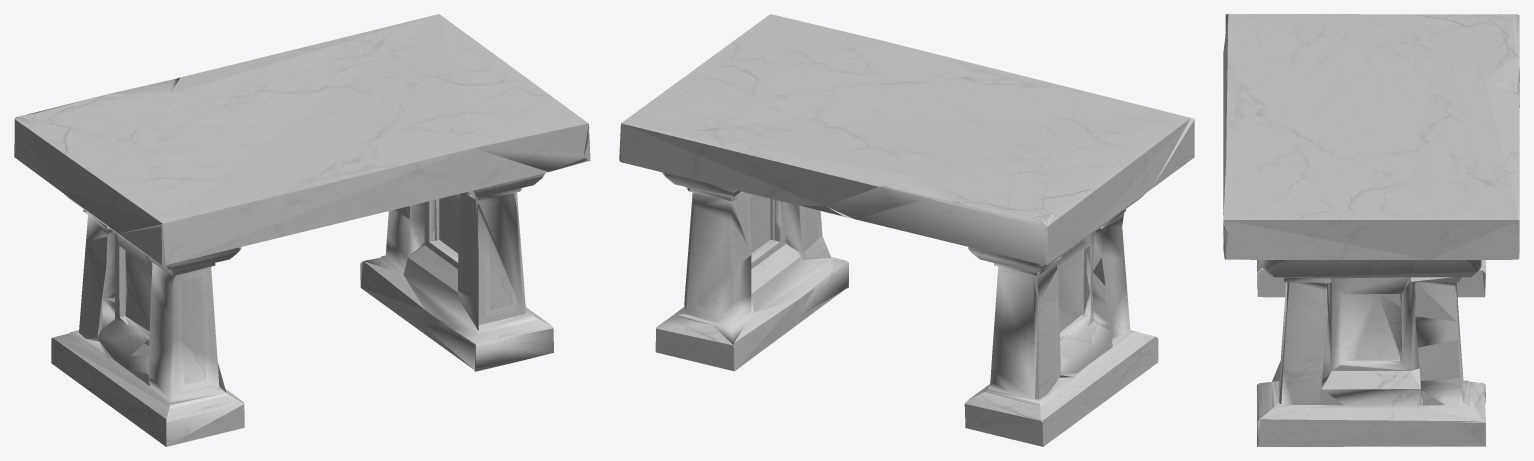
File: Autel.fbx
3 views of the same model, side by side, from view 1: azimuth 30°, elevation 25°; view 2: azimuth 150°, elevation 25°; view 3: azimuth 270°, elevation 25° (orthographic).
Visible parts, largest first — view 1: Mesh_0; view 2: Mesh_0; view 3: Mesh_0.
Boxes of the visible parts, left/top/right/bottom form: Mesh_0: left=14, top=14, right=590, bottom=446; Mesh_0: left=619, top=14, right=1194, bottom=446; Mesh_0: left=1223, top=14, right=1519, bottom=446.
Size of the model in its own units: 190 by 102 by 115.
1 material, 1 textured.
